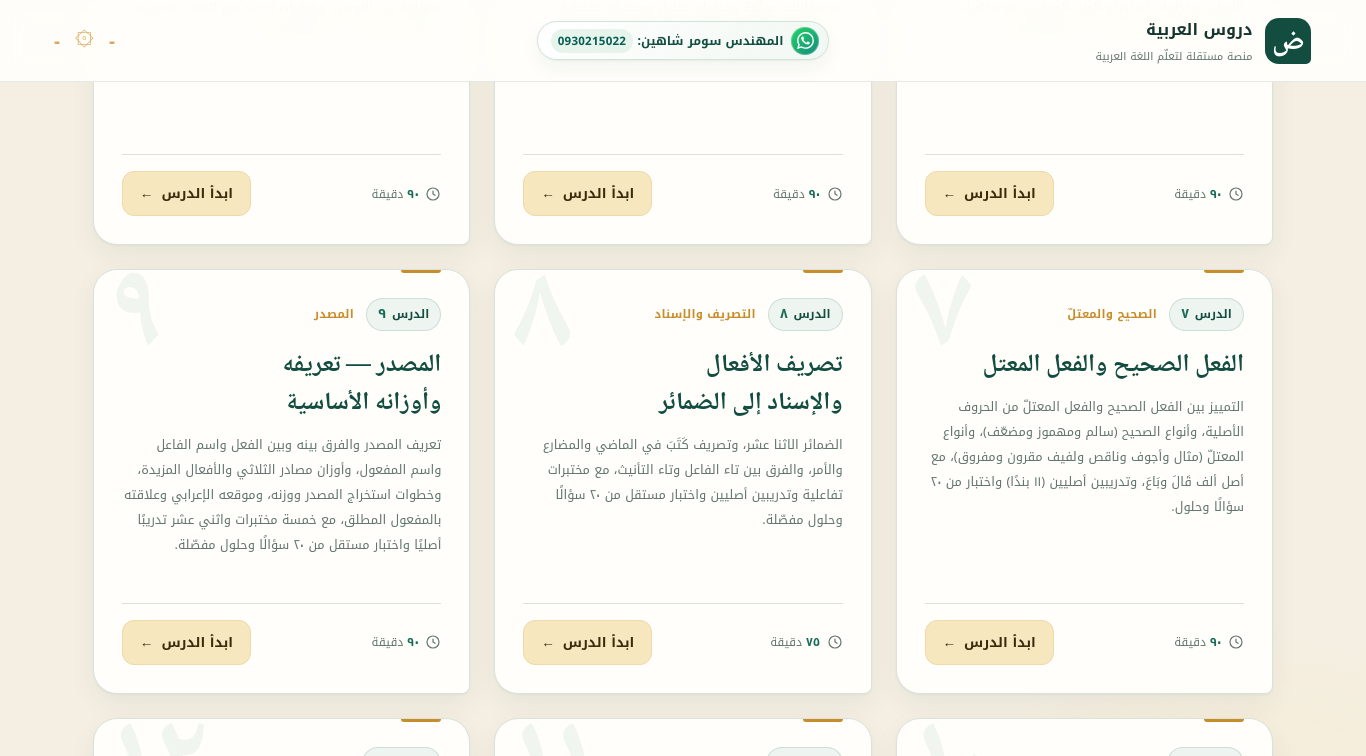
morphology 09 — المسار والتسجيل وعرض المصدر › يُفتح من البطاقة التاسعة بعد الثامنة، ويحفظ RTL والمسار، ويعود إلى الصرف
(page scrolled)
Click the link "المصدر — تعريفه وأوزانه الأساسية": (362, 365) [283,344,441,425]
(page scrolled)
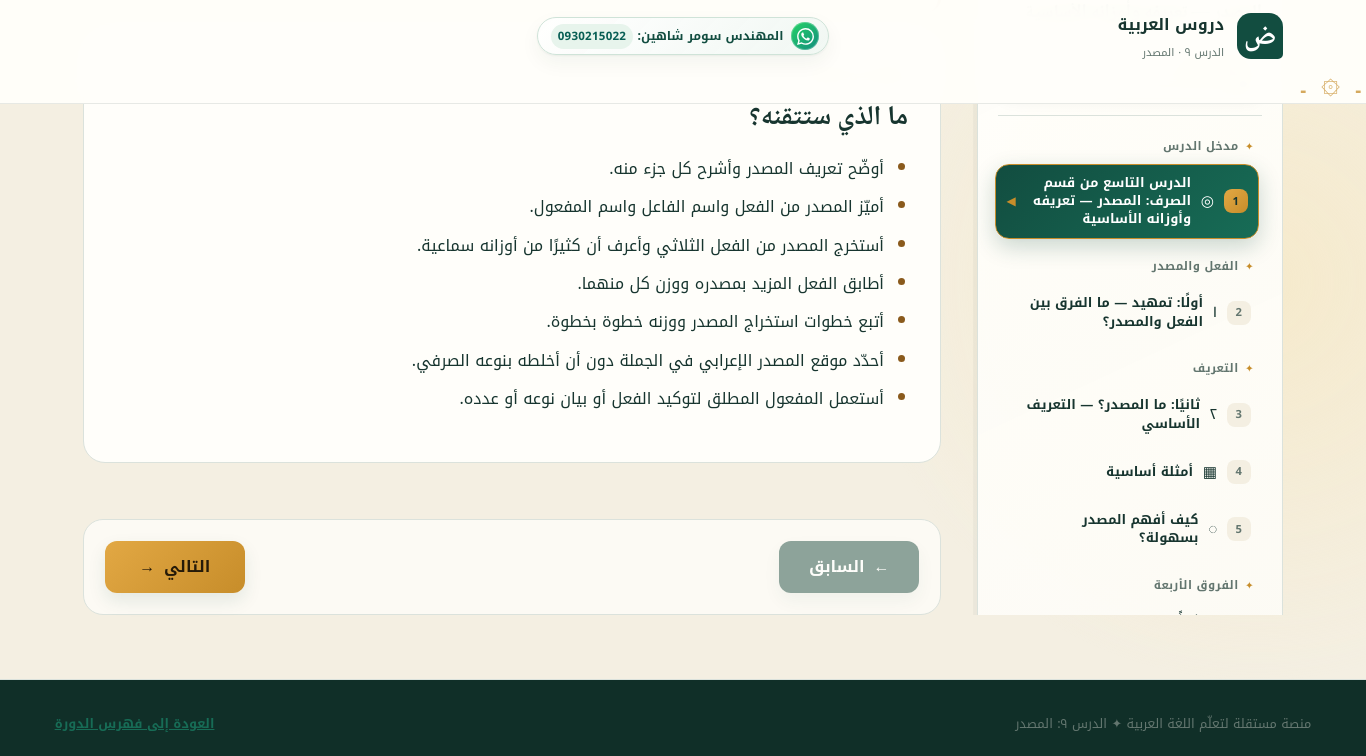
Check: the button "← السابق" is disabled, box [779,540,919,593]
Click the button "التالي →": (175, 567) [105,540,245,593]
(page scrolled)
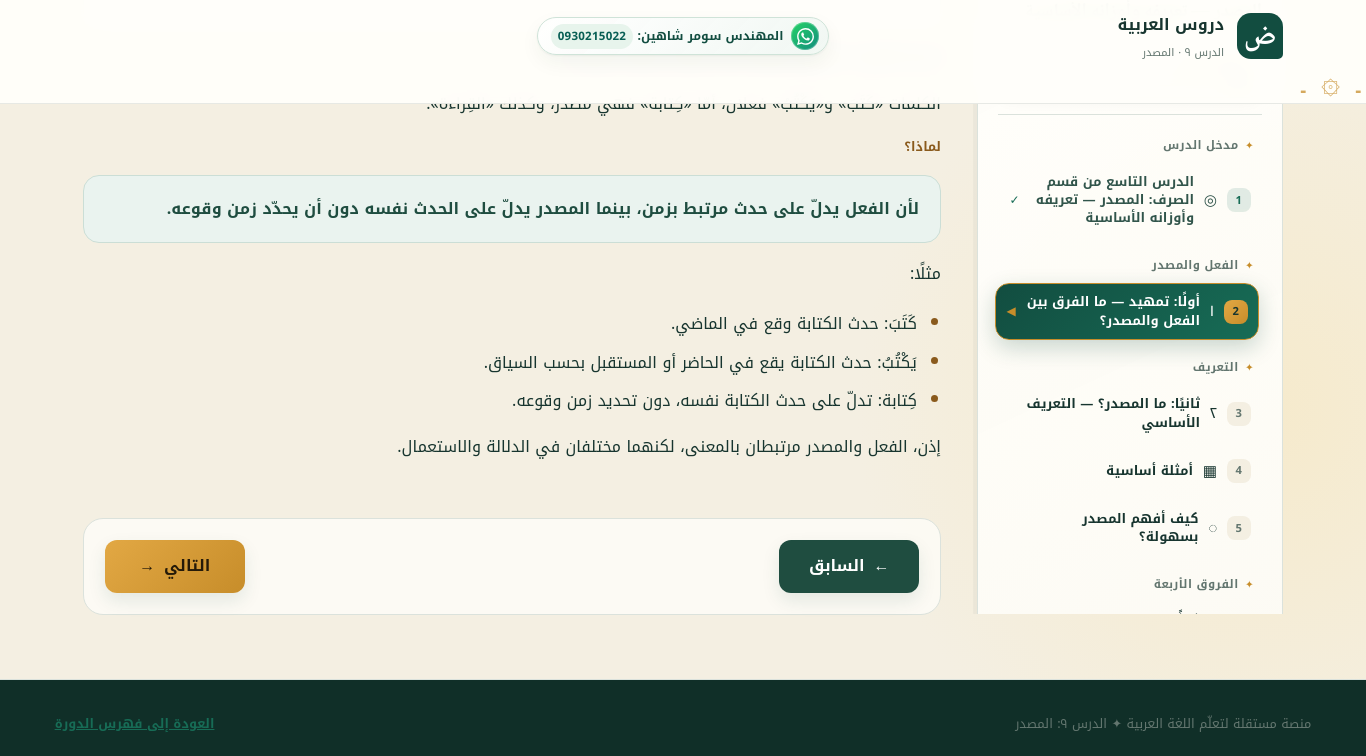
Click the button "← السابق": (849, 566) [779,540,919,593]
(page scrolled)
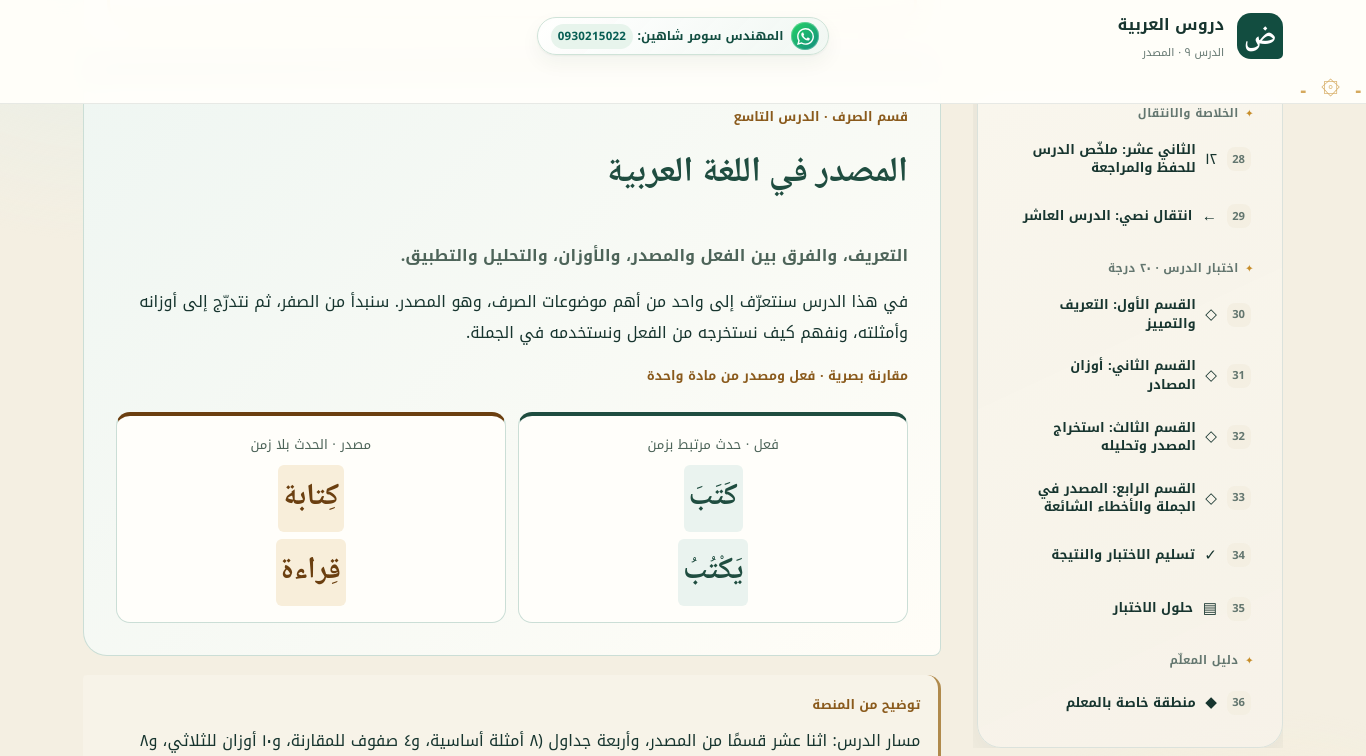
Click the button "36 ◆ منطقة خاصة بالمعلم": (1130, 703) [998,678,1262,727]
(page scrolled)
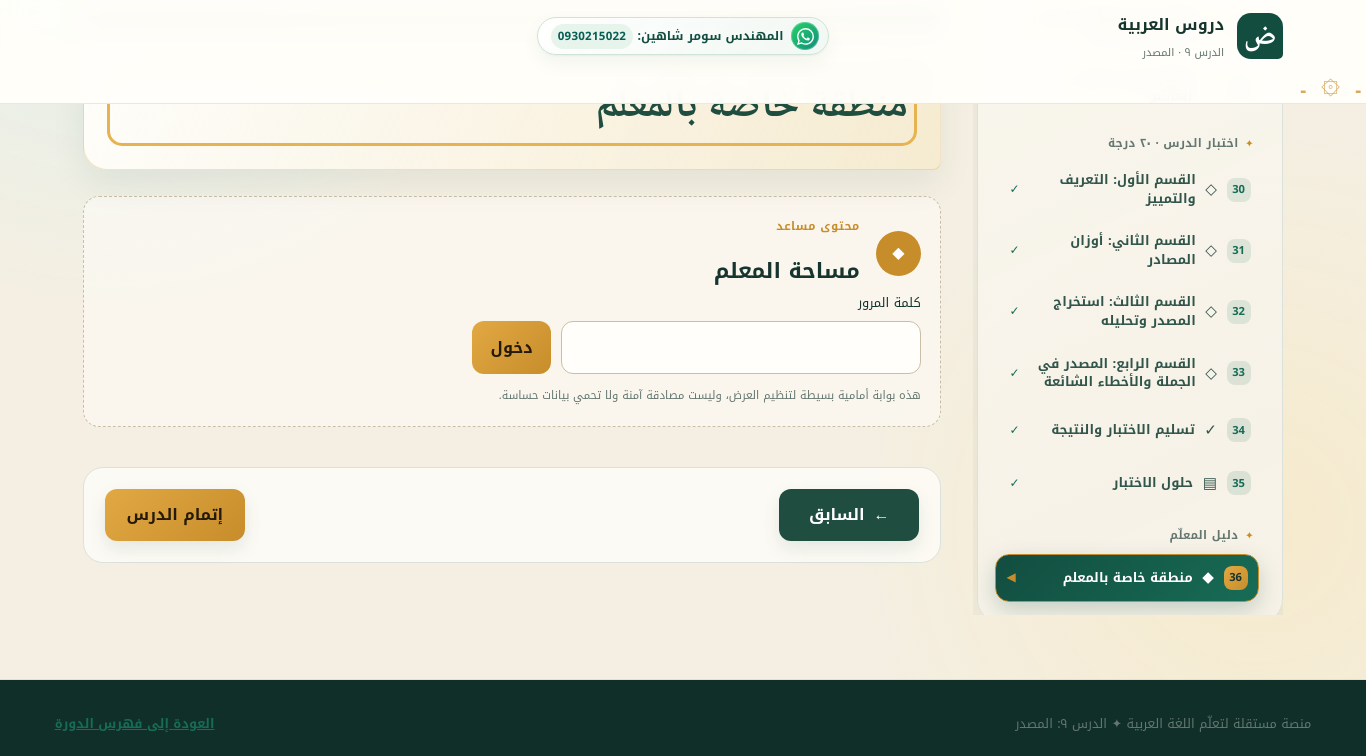
Click the button "إتمام الدرس": (175, 515) [105,489,245,541]
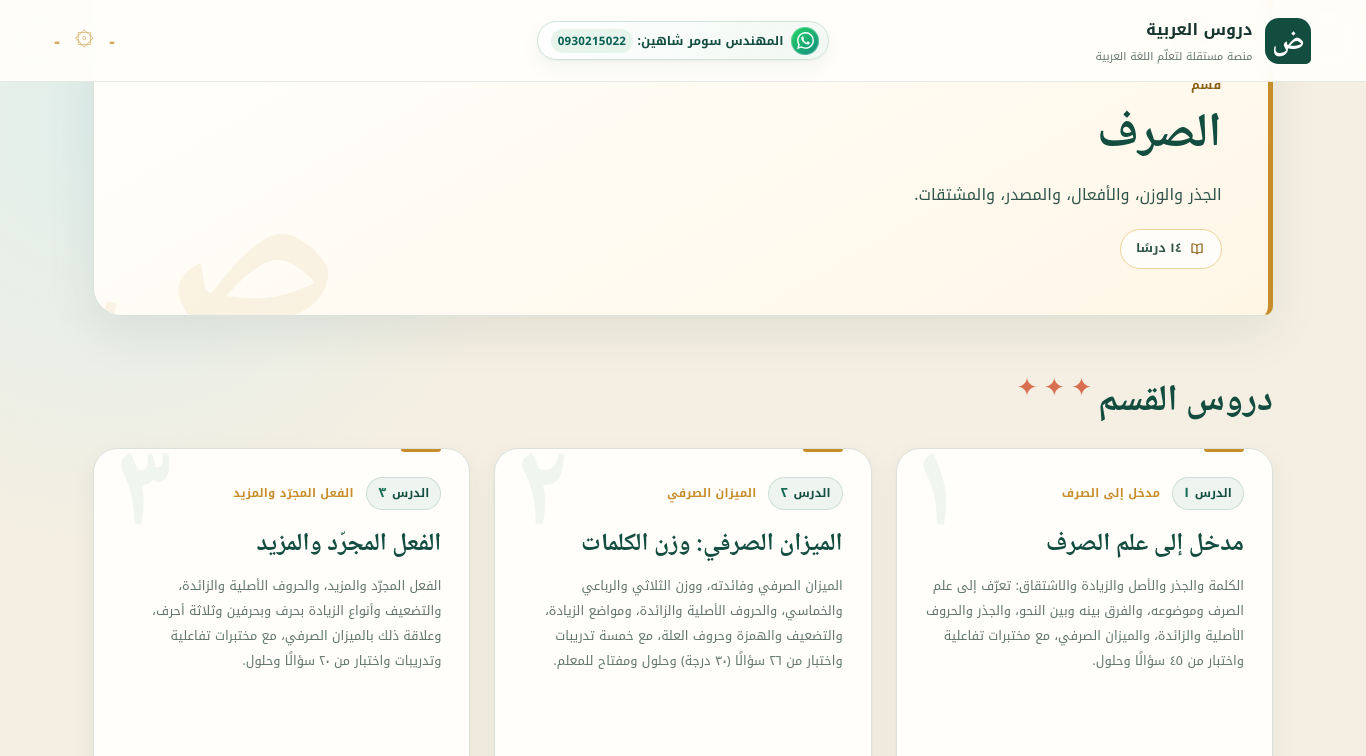
Check: the heading "الصرف" is shown, box [1097,95,1222,176]
